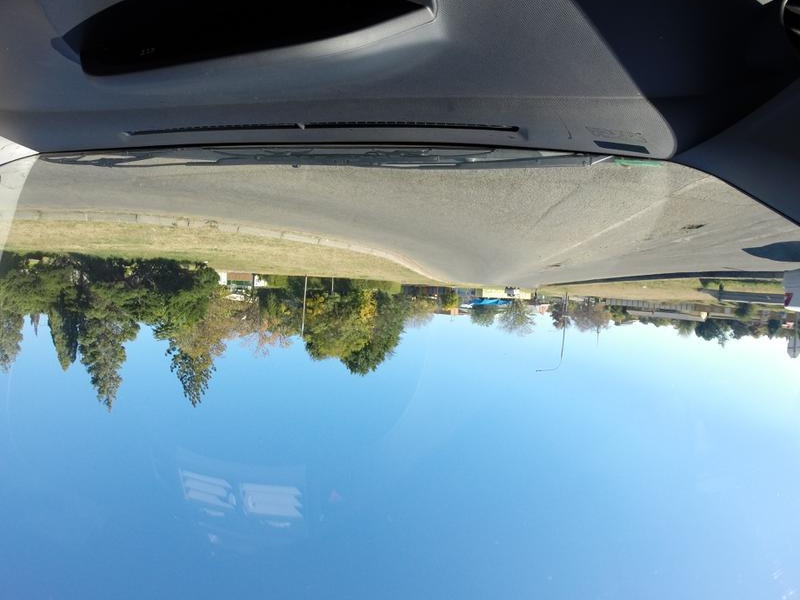pothole: (543, 255, 571, 274), (679, 220, 708, 234)
